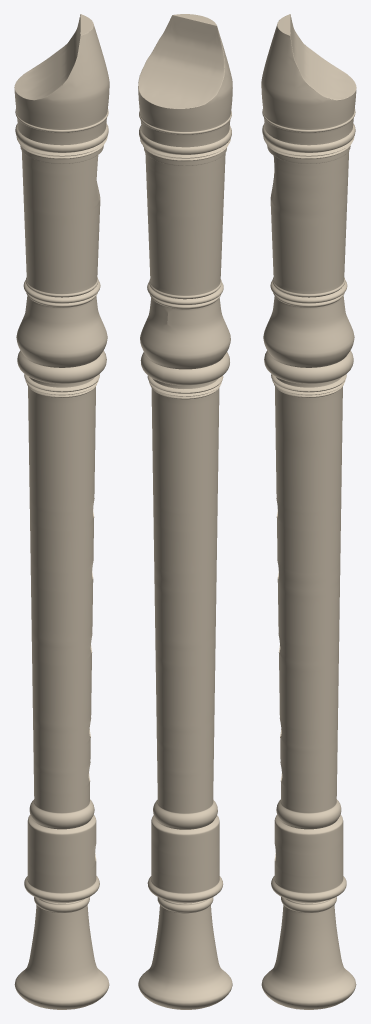
Rendered from flute.glb.
The picture shows the model from 3 angles, left to right: view 1: azimuth 90°, elevation 25°; view 2: azimuth 150°, elevation 25°; view 3: azimuth 270°, elevation 25°; orthographic projection.
Visible parts, largest first — view 1: Object_2; view 2: Object_2; view 3: Object_2.
Boxes of the visible parts, x1,y1,x2,y2 form: Object_2: [14, 14, 109, 1009]; Object_2: [138, 14, 232, 1009]; Object_2: [261, 14, 356, 1009].
Bounding box in the file's own units: 0.0942 × 1.06 × 0.0942.
